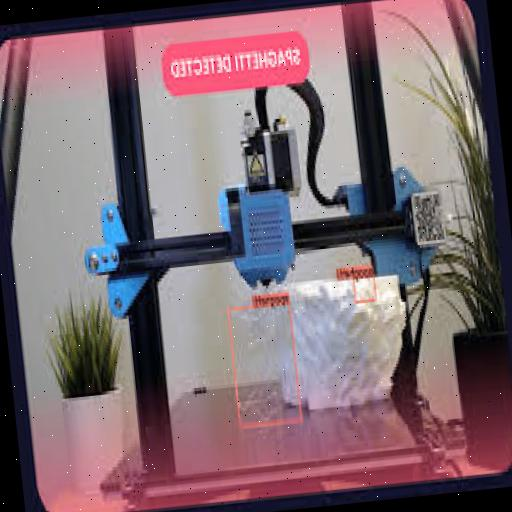spaghetti: (224, 295, 302, 431)
